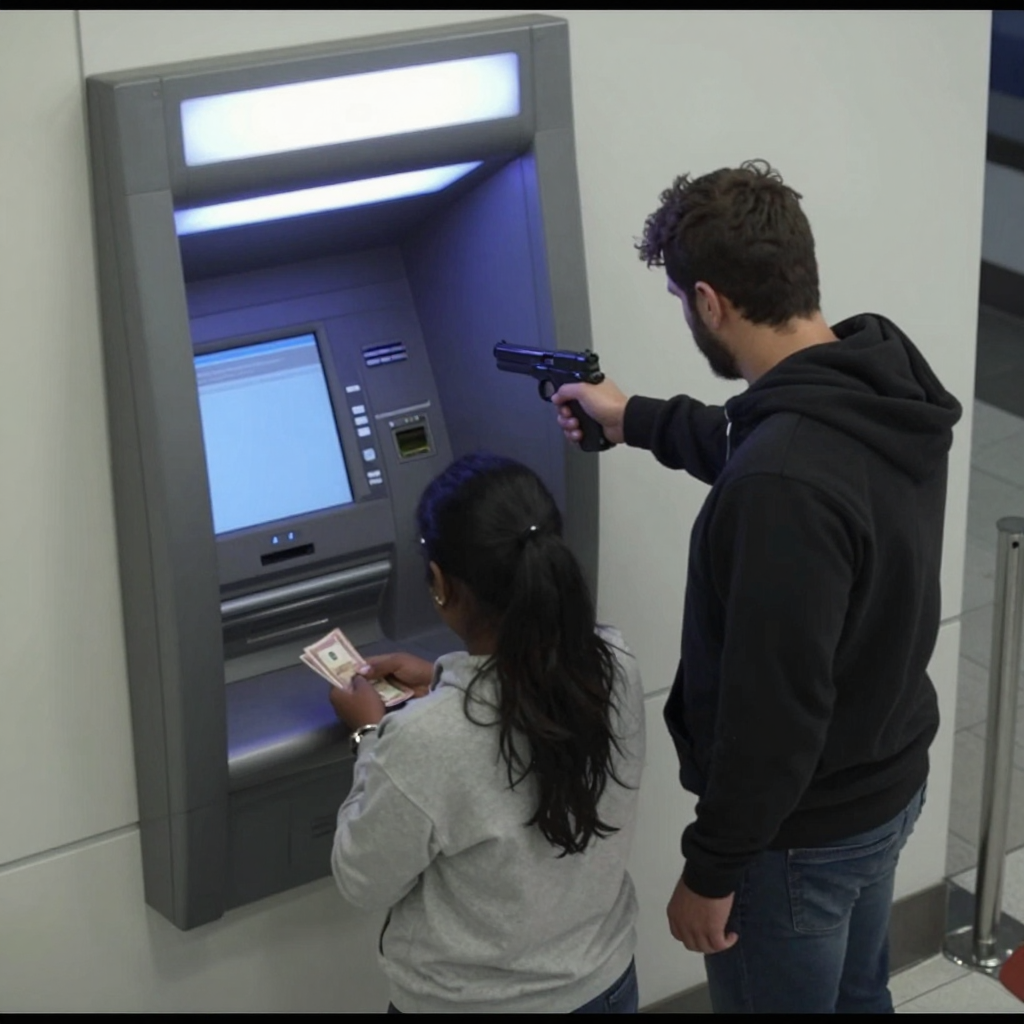Robbery: (550, 158, 963, 1013), (327, 452, 647, 1016)
Shooting: (496, 342, 618, 446)
